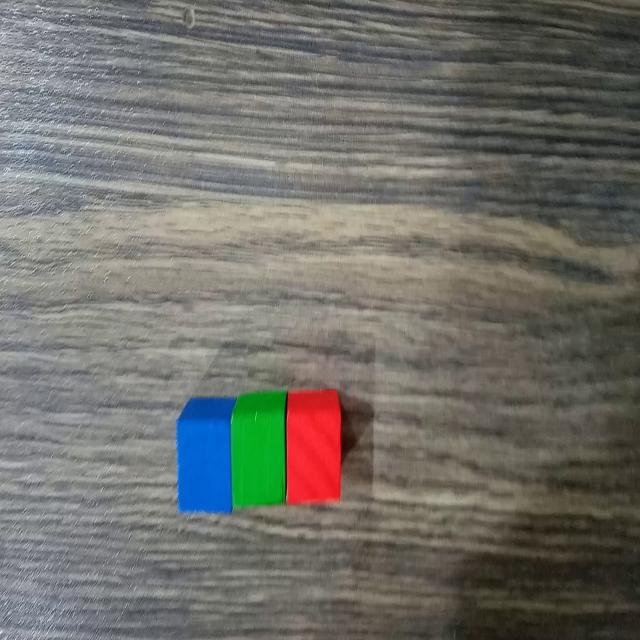cube: (173, 391, 229, 519), (231, 385, 285, 517), (286, 386, 344, 508)
